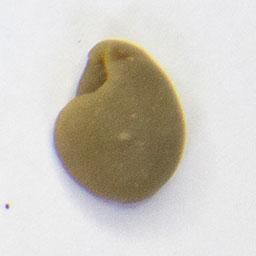defect: (50, 36, 189, 208)
